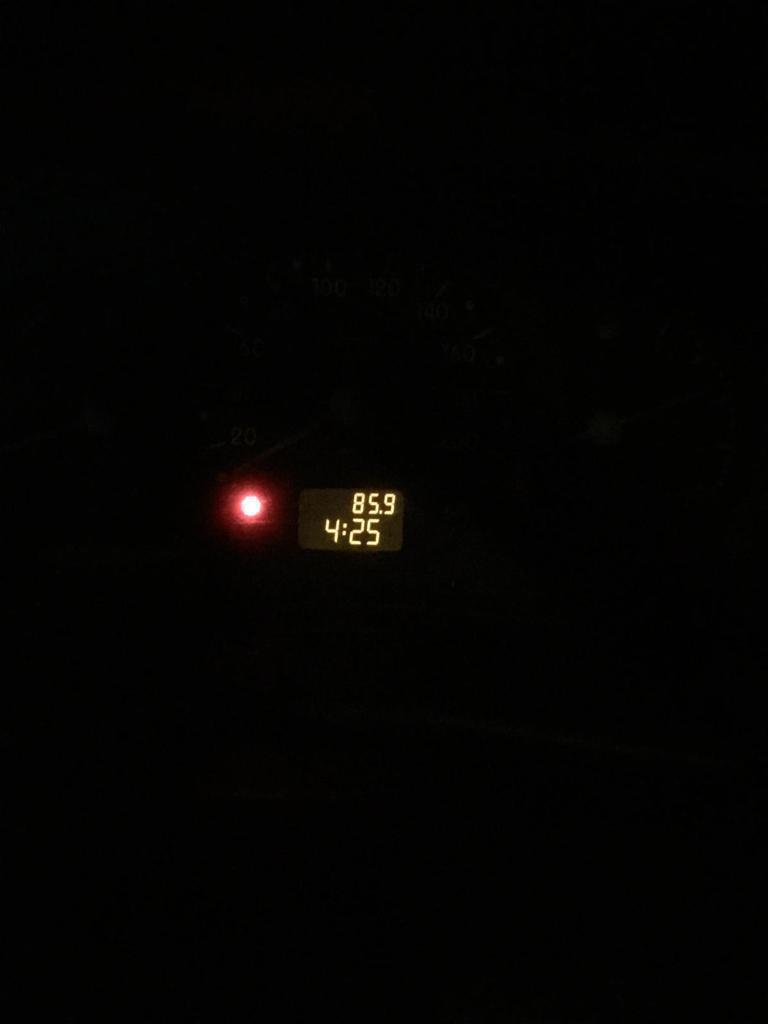,: (378, 509, 383, 515)
2: (348, 518, 365, 545)
4: (324, 518, 340, 543)
5: (365, 518, 380, 545), (367, 492, 379, 514)
8: (351, 491, 365, 514)
9: (383, 492, 395, 515)
X: (341, 522, 347, 536)
odometer: (296, 486, 406, 554)
